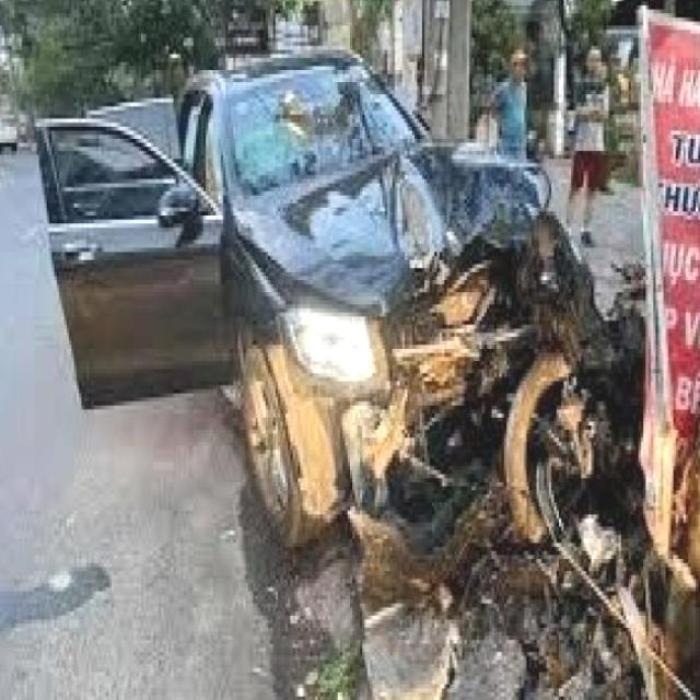Accident: (216, 68, 696, 623)
